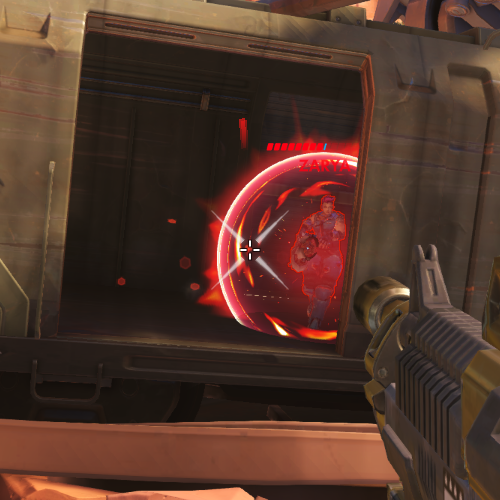hpbar: (265, 142, 360, 151)
